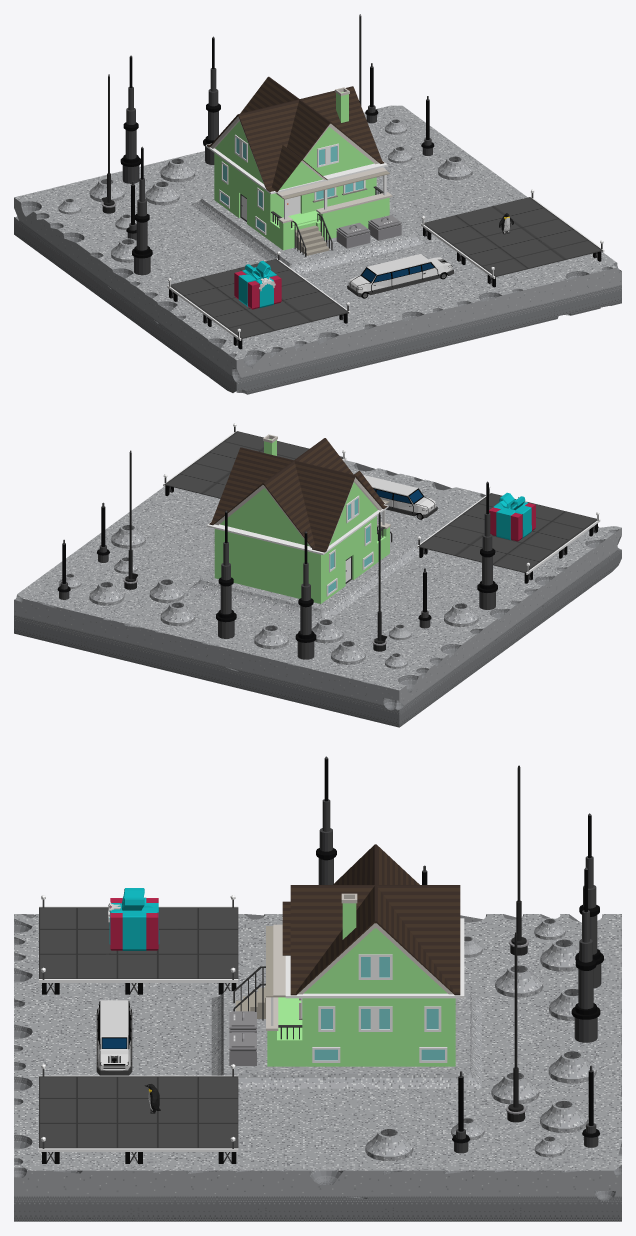
3 renders of one model, top to bottom at view 1: azimuth 30°, elevation 25°; view 2: azimuth 150°, elevation 25°; view 3: azimuth 270°, elevation 25°, orthographic. The views are drawn at different scales.
Parts seen in each view (by area): view 1: Cube.027, Cube.274, Cube.026, Cube.025, Cube.028, VEHICLES_LIMOUSINE, OBJRANDOM_GIANT_PRESENT, Cylinder.020, Cylinder.021, Cylinder.017, Cube.029, Cube.030 (+4 smaller); view 2: Cube.027, Cube.274, Cube.025, Cube.028, Cube.026, OBJRANDOM_GIANT_PRESENT, VEHICLES_LIMOUSINE, Cylinder.020, Cylinder.021, Cylinder.017, Cylinder.031, Cylinder.028 (+8 smaller); view 3: Cube.027, Cube.274, Cube.026, Cube.025, Cube.028, OBJRANDOM_GIANT_PRESENT, VEHICLES_LIMOUSINE, Cylinder.017, Cylinder.020, Cylinder.021, Cylinder.033, Cylinder.031 (+10 smaller).
Boxes of the visible parts, x1,y1,x2,y2 form: Cube.027: (14,105,621,394); Cube.274: (205,76,392,256); Cube.026: (421,189,604,287); Cube.025: (167,251,350,349); Cube.028: (191,195,424,274); VEHICLES_LIMOUSINE: (347,254,453,298); OBJRANDOM_GIANT_PRESENT: (234,261,281,309); Cylinder.020: (120,55,140,183); Cylinder.021: (132,146,152,275); Cylinder.017: (203,36,220,164); Cube.029: (336,222,370,248); Cube.030: (368,215,401,240); Cube.027: (14,460,621,727); Cube.274: (206,434,392,603); Cube.025: (417,485,600,583); Cube.028: (190,538,419,620); Cube.026: (163,423,346,498); OBJRANDOM_GIANT_PRESENT: (489,492,535,541); VEHICLES_LIMOUSINE: (363,475,437,519); Cylinder.020: (295,531,316,659); Cylinder.021: (477,481,497,609); Cylinder.017: (216,510,236,638); Cylinder.031: (89,581,124,605); Cylinder.028: (331,640,365,664); Cube.027: (14,914,621,1221); Cube.274: (233,844,464,1066); Cube.026: (39,1064,238,1163); Cube.025: (39,895,238,994); Cube.028: (211,991,481,1088); OBJRANDOM_GIANT_PRESENT: (108,888,159,950); VEHICLES_LIMOUSINE: (96,1000,132,1075); Cylinder.017: (571,867,600,1042); Cylinder.020: (575,813,603,988); Cylinder.021: (316,756,336,884); Cylinder.033: (365,1128,413,1160); Cylinder.031: (540,1100,587,1132).
Size of the model in its own units: 4000 by 1799 by 4000.
36 materials, 4 textured.
